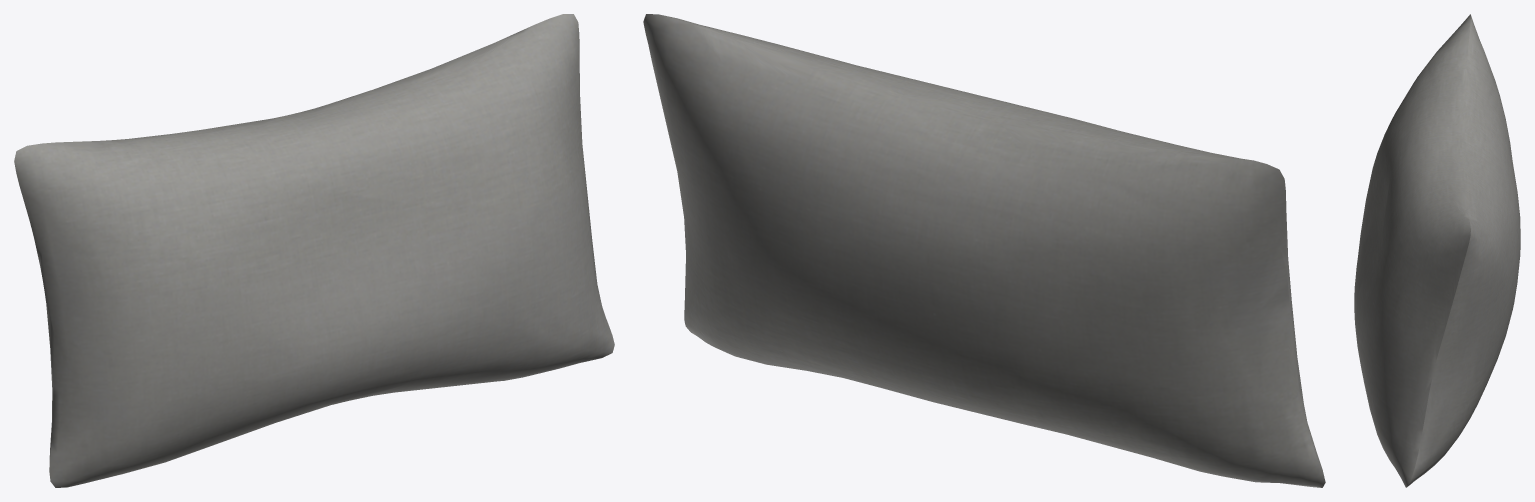
The model's file is TheMuraka_Int_Pillow4.fbx.
3 renders of one model, left to right at view 1: azimuth 30°, elevation 25°; view 2: azimuth 150°, elevation 25°; view 3: azimuth 270°, elevation 25°, orthographic. The views are drawn at different scales.
Parts seen in each view (by area): view 1: pilow4; view 2: pilow4; view 3: pilow4.
Part boxes in pixels (left/top/right/bottom): pilow4: left=14, top=14, right=614, bottom=487; pilow4: left=643, top=14, right=1325, bottom=487; pilow4: left=1354, top=14, right=1520, bottom=487.
Size of the model in its own units: 92.49 by 49.21 by 28.93.
